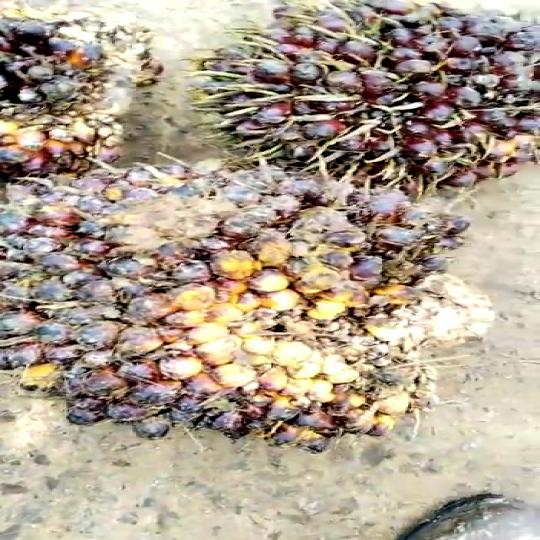kurang masak: (0, 164, 469, 455), (185, 12, 540, 208)
